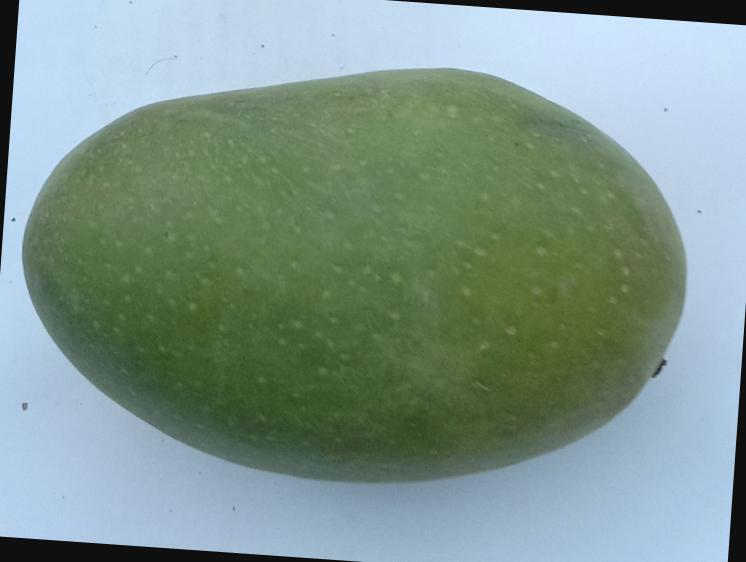Mango Unripe: (0, 33, 724, 531)
